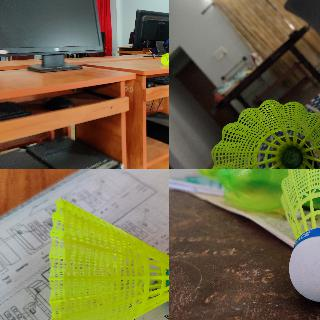shuttlecock: (49, 196, 168, 319), (208, 99, 319, 168), (279, 169, 319, 303), (160, 53, 168, 66)
